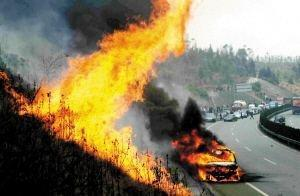fire: (5, 1, 187, 193), (173, 128, 240, 185)
